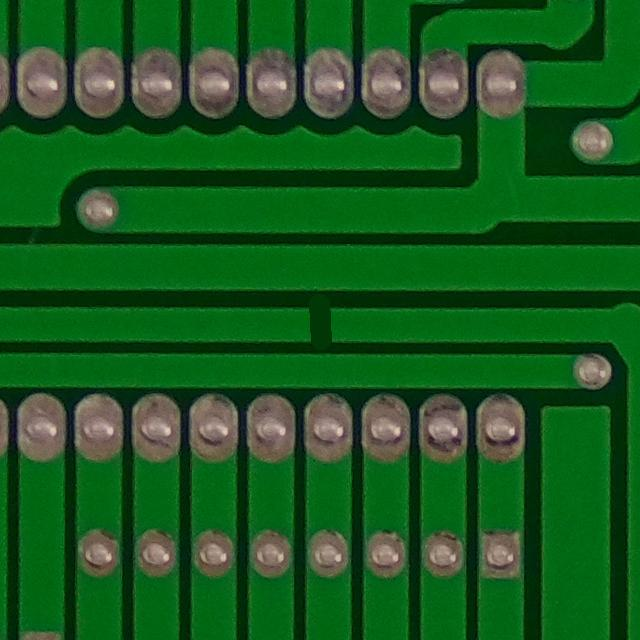open_circuit: (289, 294, 351, 347)
